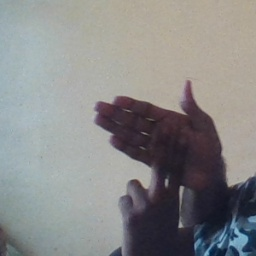N: (89, 75, 216, 233)
